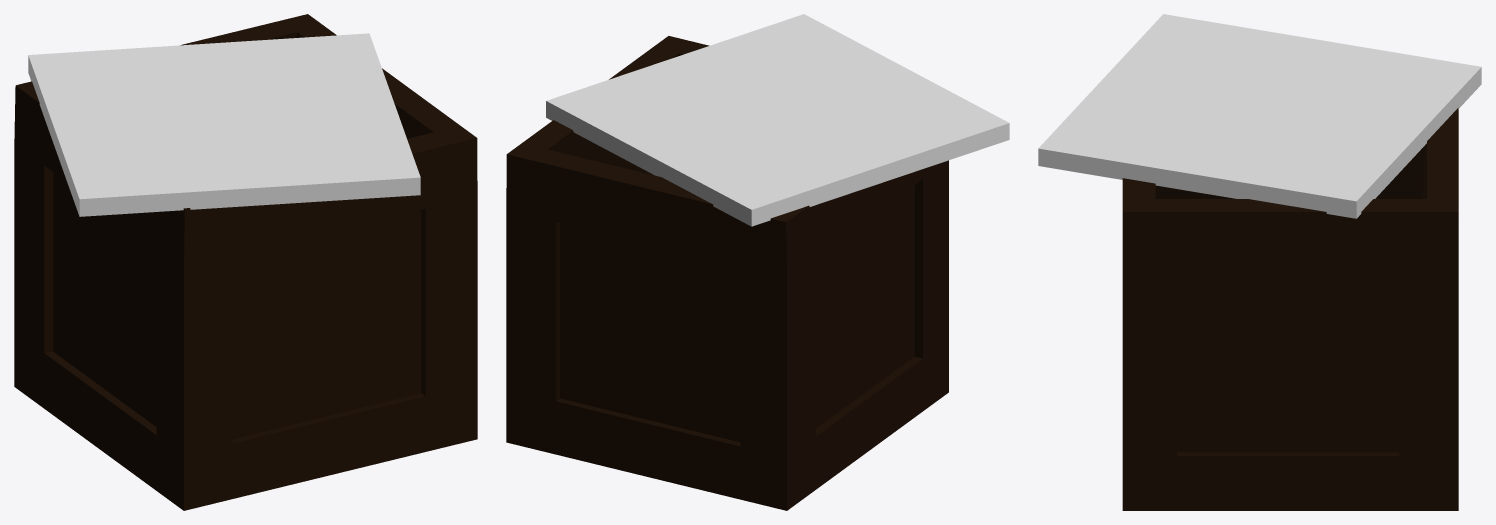
File: HalfOpencrate.FBX
3 renders of one model, left to right at view 1: azimuth 30°, elevation 25°; view 2: azimuth 150°, elevation 25°; view 3: azimuth 270°, elevation 25°, orthographic. The views are drawn at different scales.
Visible parts, largest first — view 1: Box001, Box002; view 2: Box001, Box002; view 3: Box001, Box002.
Boxes of the visible parts, x1,y1,x2,y2 form: Box001: (14, 14, 477, 510); Box002: (28, 33, 420, 216); Box001: (506, 36, 948, 510); Box002: (546, 14, 1009, 226); Box001: (1122, 108, 1458, 510); Box002: (1038, 14, 1481, 218).
Size of the model in its own units: 35.47 by 27.75 by 35.47.
